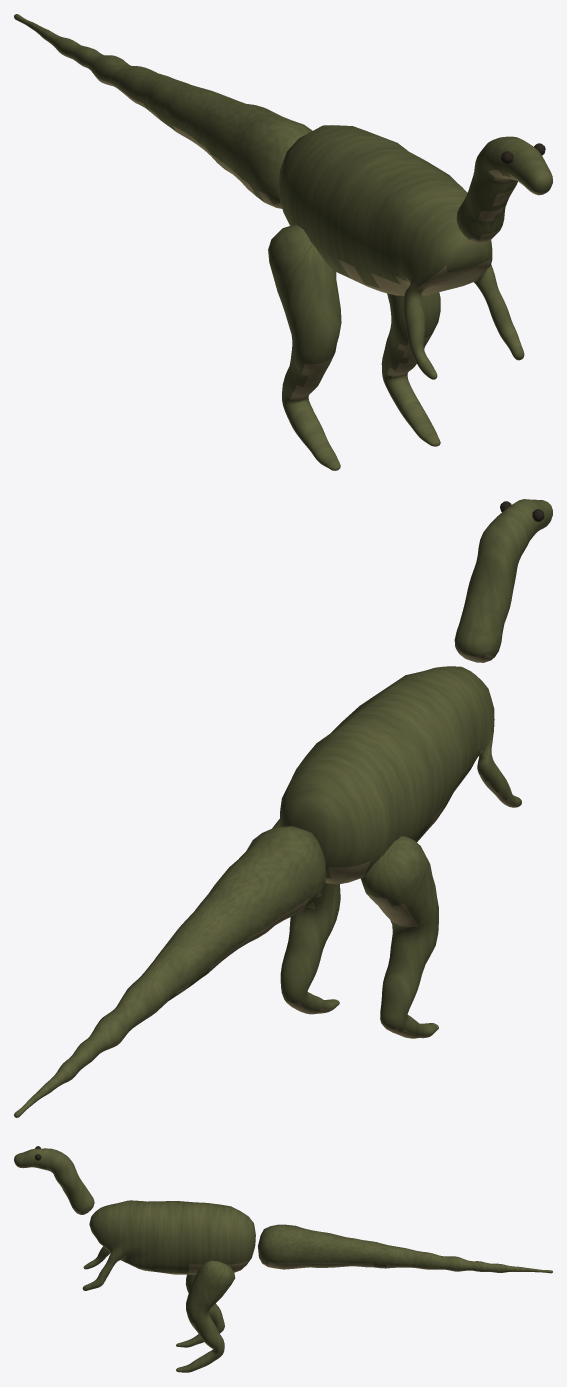
The model's file is SK_Dryosaurus.fbx.
3 renders of one model, top to bottom at view 1: azimuth 30°, elevation 25°; view 2: azimuth 150°, elevation 25°; view 3: azimuth 270°, elevation 25°, orthographic. The views are drawn at different scales.
Parts seen in each view (by area): view 1: Body, Tail, LegR, Head, LegL; view 2: Body, Tail, LegR, Head, LegL; view 3: Body, Tail, LegL, Head, LegR.
Part boxes in pixels (x1,y1,x2,y2): Body: [278, 125, 524, 379]; Tail: [14, 14, 312, 208]; LegR: [268, 225, 341, 470]; Head: [456, 136, 552, 242]; LegL: [381, 292, 440, 446]; Body: [279, 666, 521, 884]; Tail: [14, 826, 325, 1117]; LegR: [360, 836, 438, 1038]; Head: [454, 499, 552, 662]; LegL: [272, 819, 340, 1014]; Body: [82, 1200, 255, 1290]; Tail: [258, 1224, 552, 1273]; LegL: [176, 1260, 235, 1372]; Head: [14, 1146, 94, 1214]; LegR: [176, 1274, 224, 1347].
Size of the model in its own units: 0.431 by 1.14 by 2.64.
